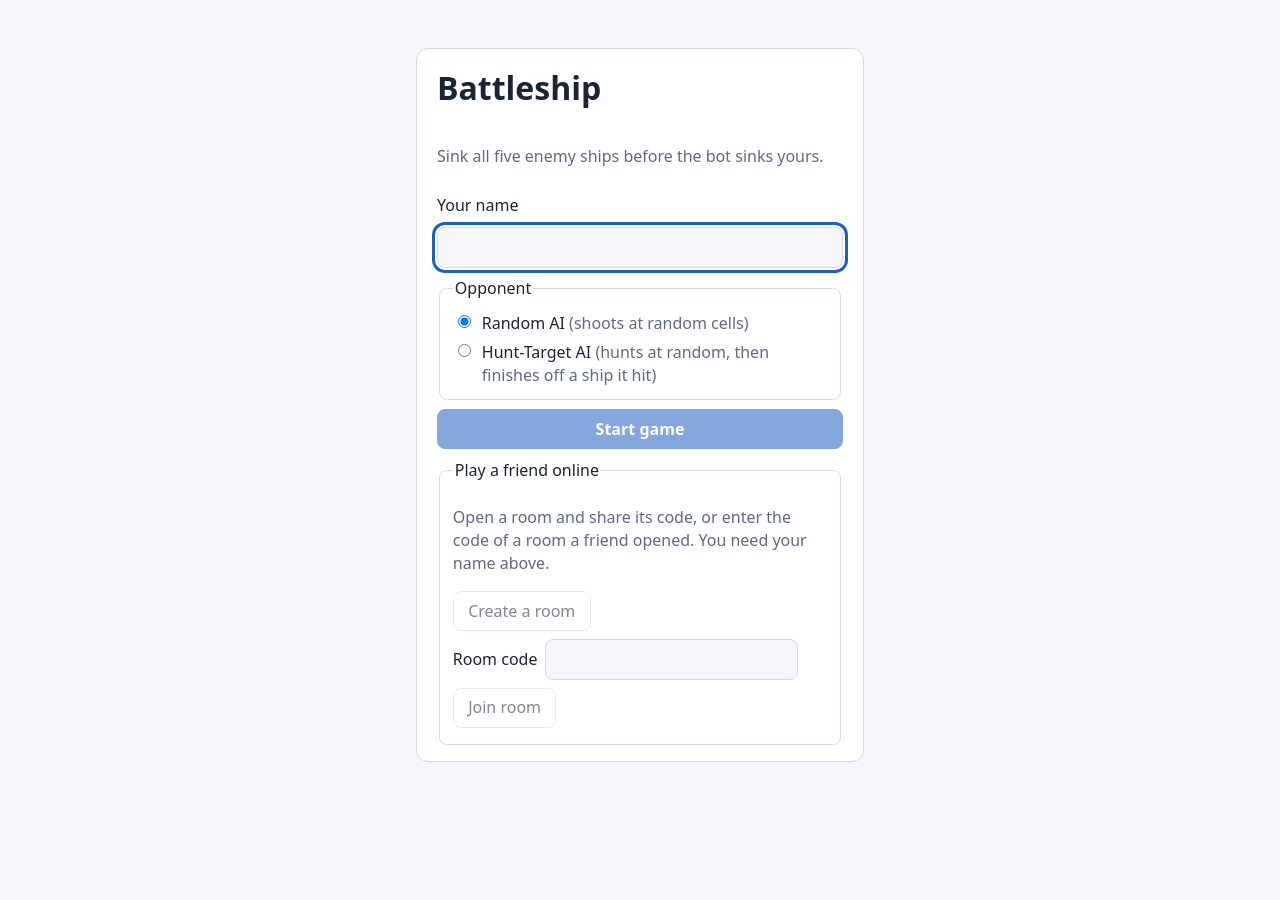
Test: App › shows the reason when the name is refused
Type "Ann" into the field labelled "Your name" at {"x": 640, "y": 247}, box [437, 226, 843, 268]
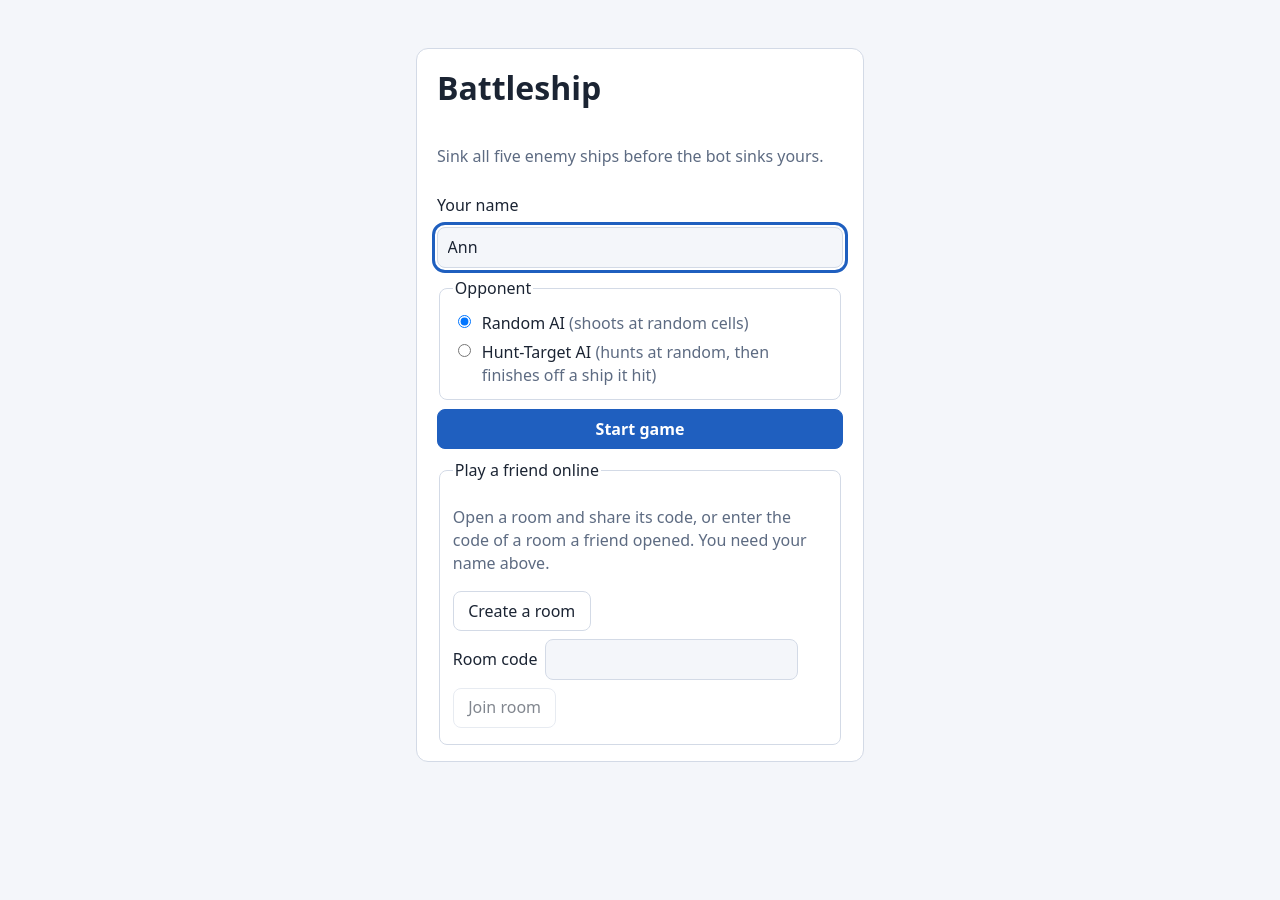
Click the button "Start game" at {"x": 640, "y": 429}, box [437, 409, 843, 449]
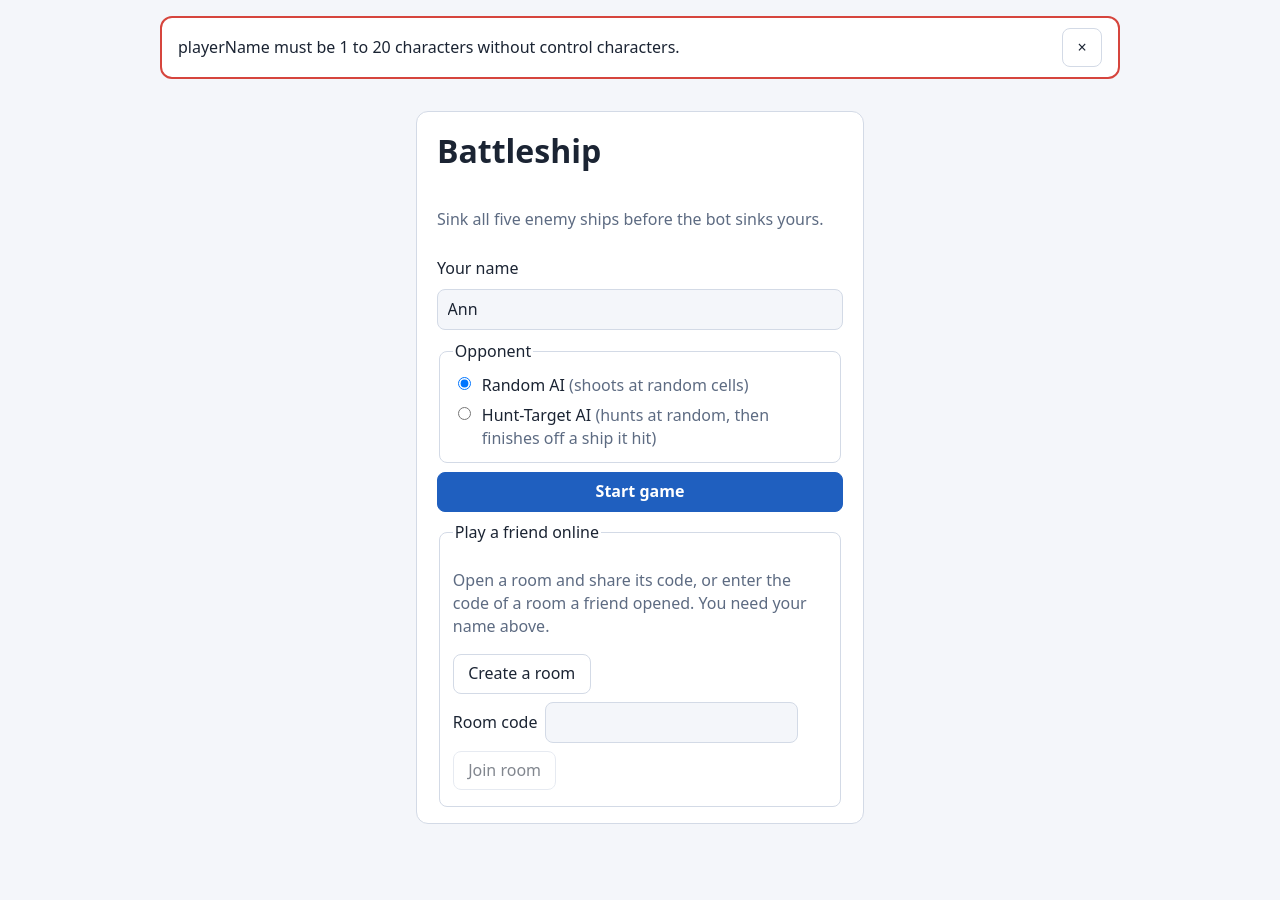
Expected: the message shows "playerName must be 1 to 20 characters", [178, 36, 680, 58]
